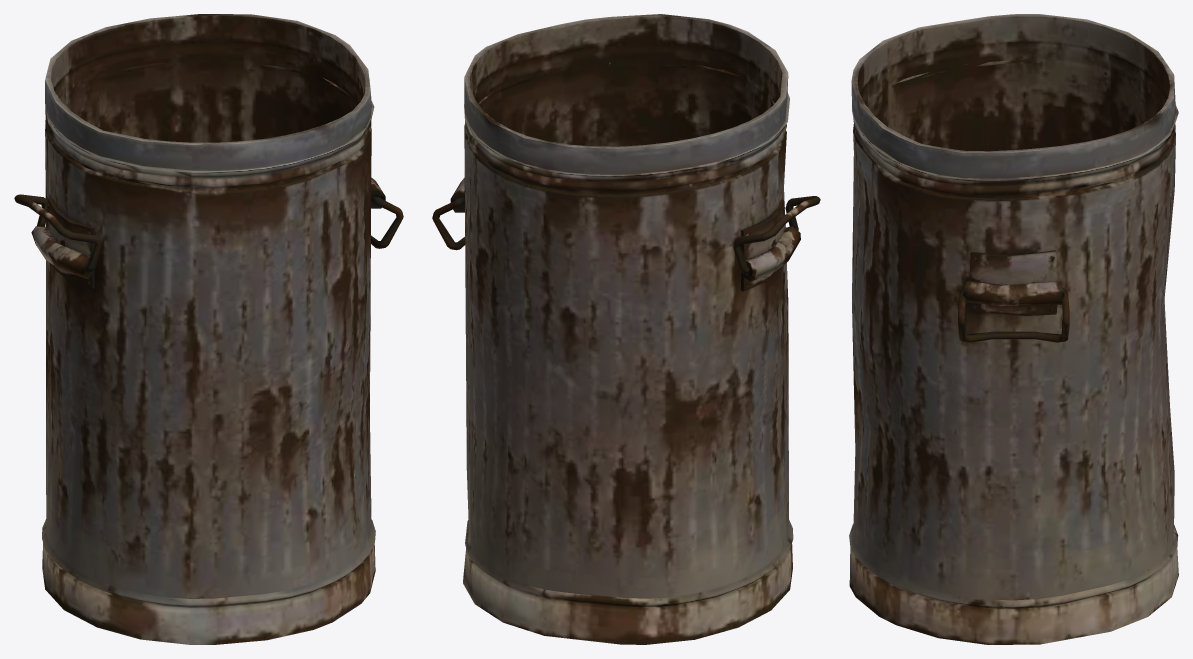
File: metal_trash_can.glb
The picture shows the model from 3 angles, left to right: view 1: azimuth 30°, elevation 25°; view 2: azimuth 150°, elevation 25°; view 3: azimuth 270°, elevation 25°; orthographic projection.
Parts seen in each view (by area): view 1: metal_trash_can_rust, metal_trash_can_rust_handle_left, metal_trash_can_rust_handle_right; view 2: metal_trash_can_rust, metal_trash_can_rust_handle_left, metal_trash_can_rust_handle_right; view 3: metal_trash_can_rust, metal_trash_can_rust_handle_right.
Boxes of the visible parts, <box> form: metal_trash_can_rust: <box>31,14,385,644</box>; metal_trash_can_rust_handle_left: <box>14,194,101,272</box>; metal_trash_can_rust_handle_right: <box>371,196,403,248</box>; metal_trash_can_rust: <box>450,14,800,644</box>; metal_trash_can_rust_handle_left: <box>733,196,820,274</box>; metal_trash_can_rust_handle_right: <box>432,197,465,250</box>; metal_trash_can_rust: <box>849,14,1178,644</box>; metal_trash_can_rust_handle_right: <box>958,288,1069,342</box>.
Size of the model in its own units: 0.6453 by 0.9062 by 0.5471.
1 material, 1 textured.
